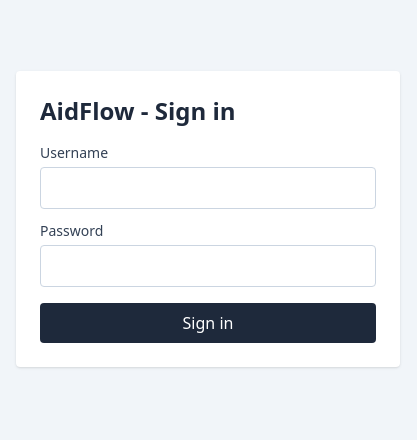
login › shows a validation error from the standard shape
Type "alice" into the field labelled "Username".
click(208, 188); type("alice")  # box [40,167,376,209]
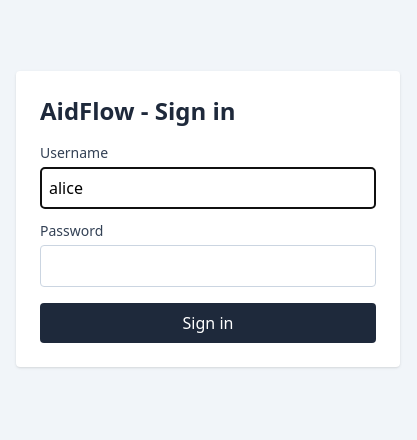
Type "correct-horse-battery" into the password field labelled "Password".
click(208, 266); type("correct-horse-battery")  # box [40,245,376,287]
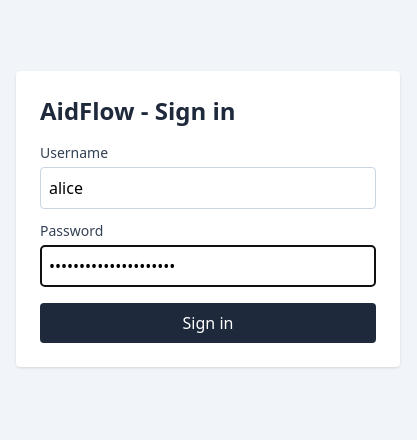
Click the button "Sign in".
click(208, 323)  # box [40,303,376,343]
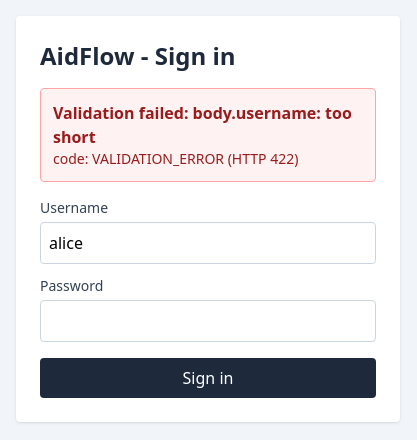
Expected: the message shows "Validation failed", [53,102,352,148]
